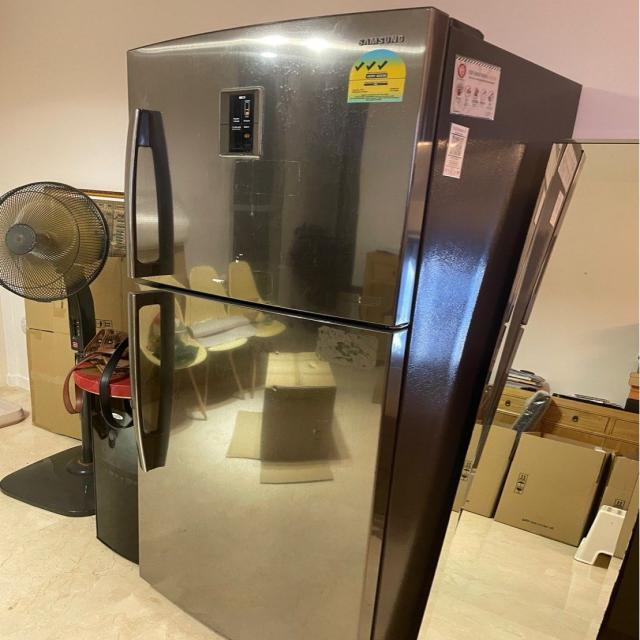refrigerator: (123, 6, 454, 640)
